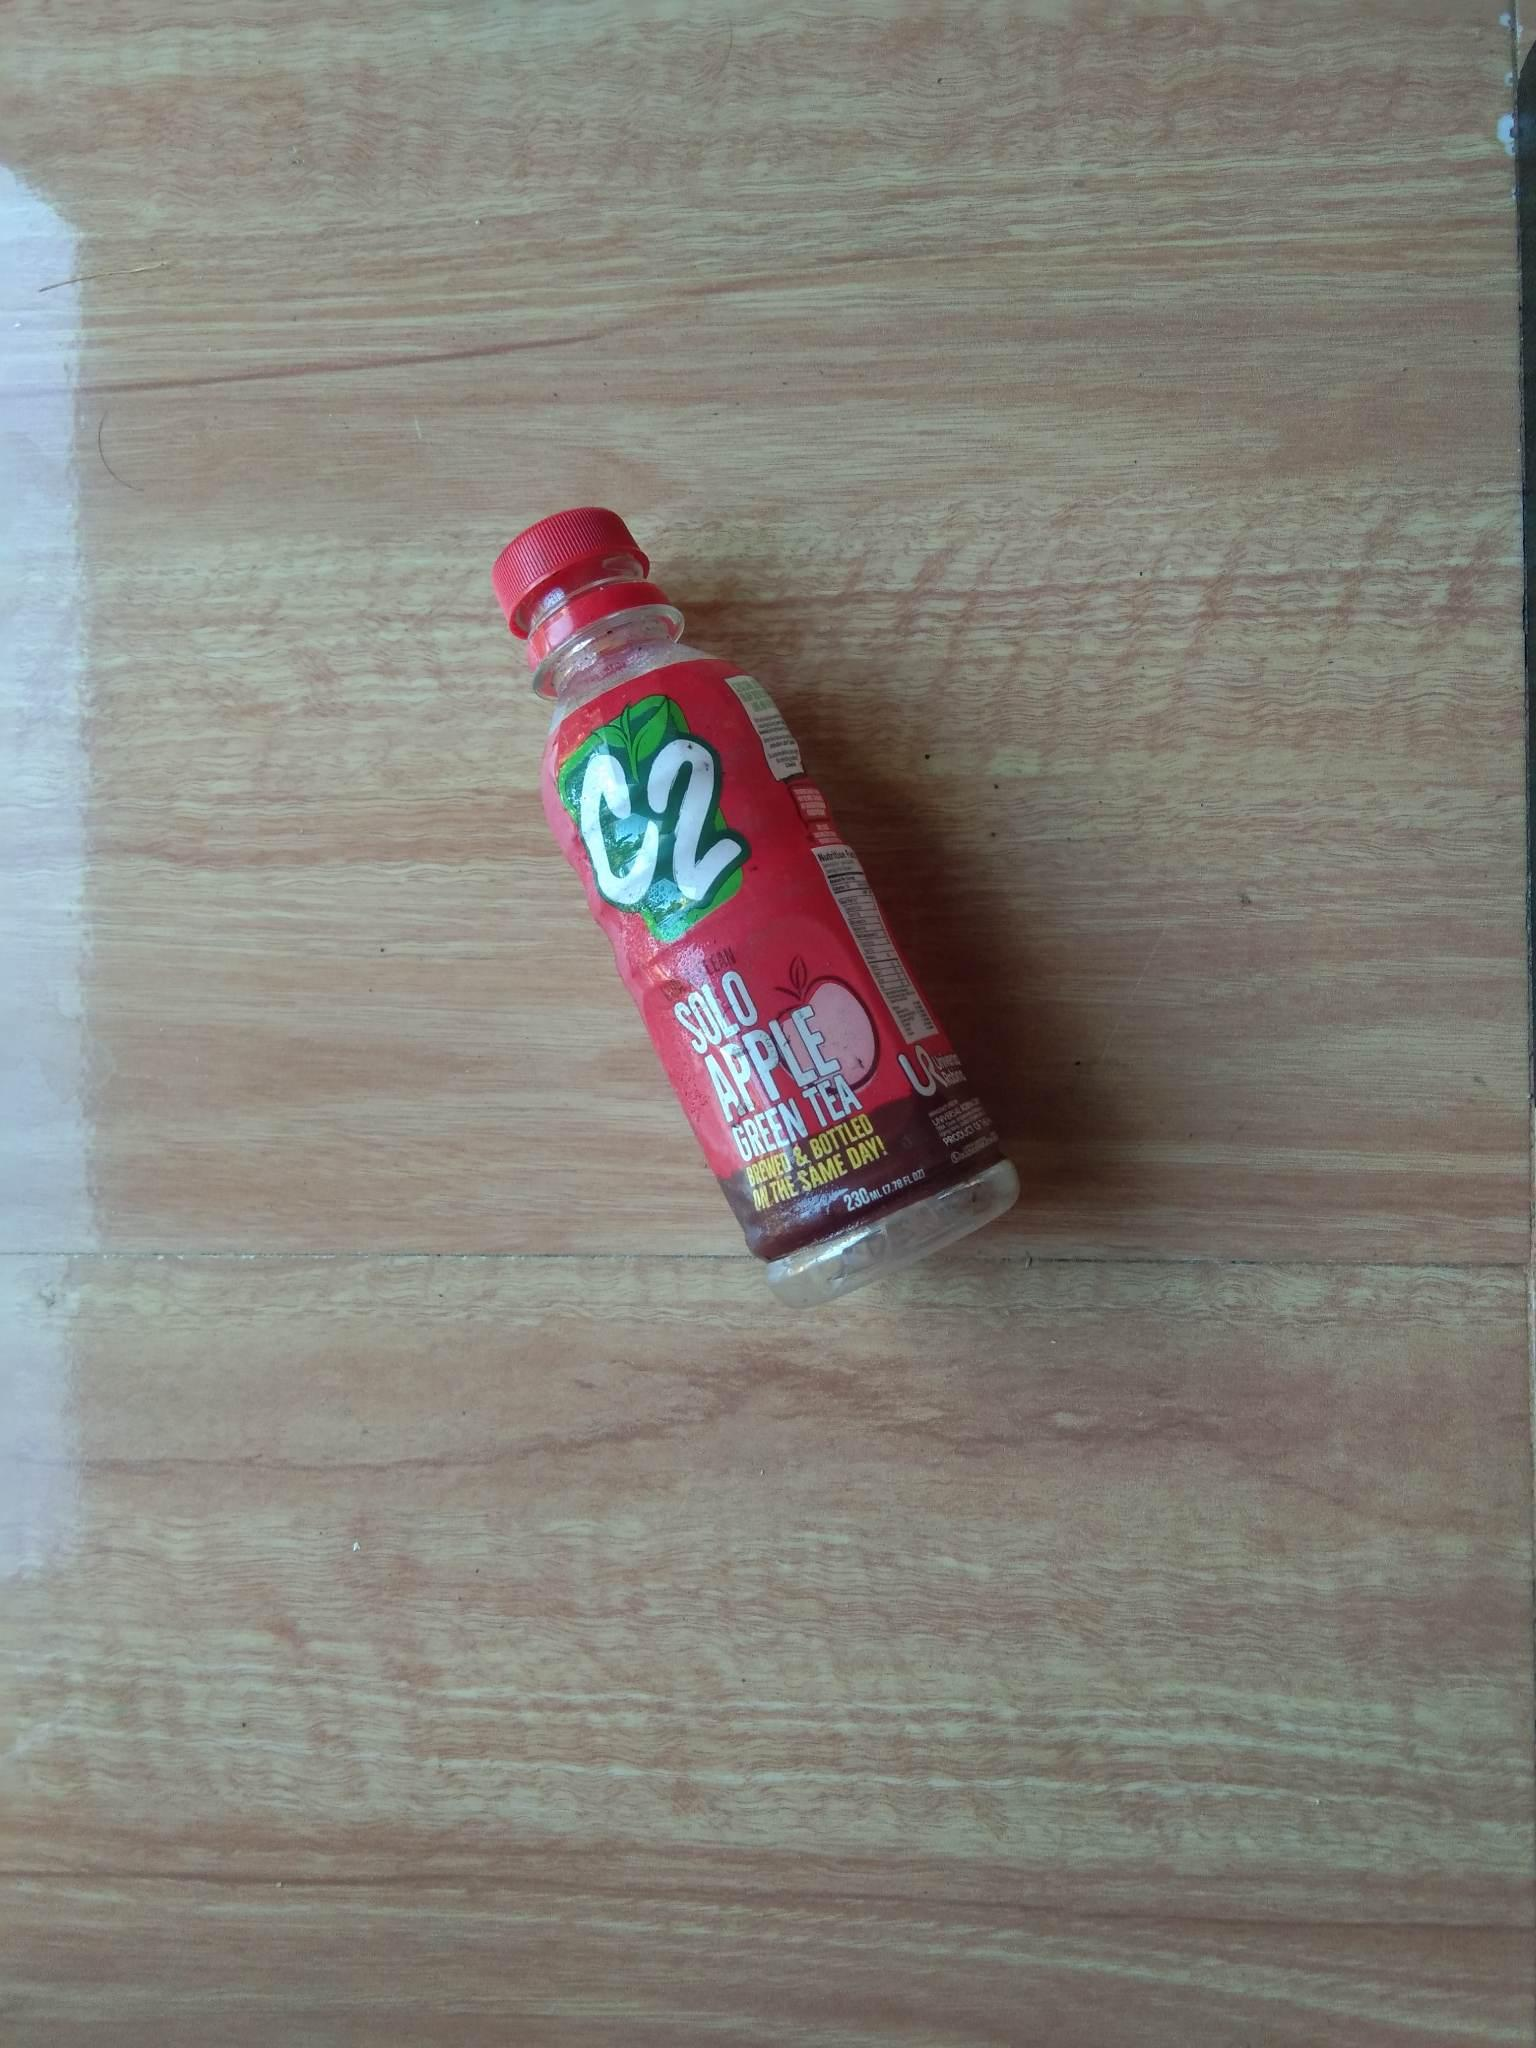plastic: (297, 481, 1108, 1311)
